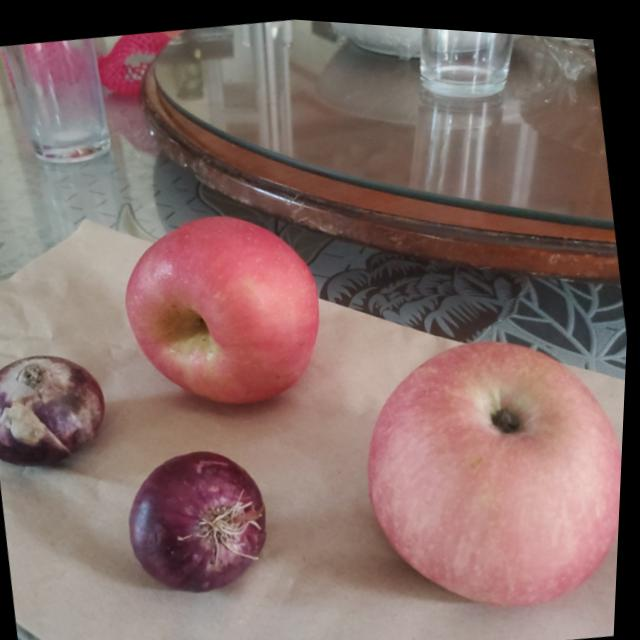apple: (346, 302, 630, 628), (114, 193, 340, 422)
onion: (125, 434, 288, 597), (0, 340, 121, 476)
